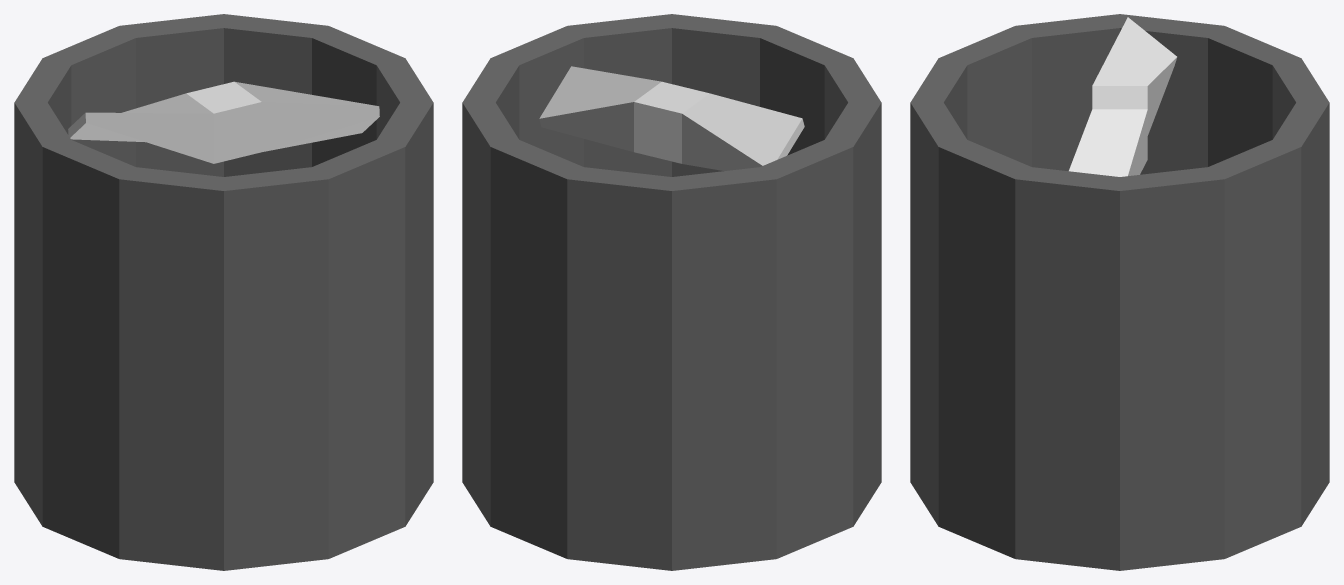
The model's file is Blender.fbx.
3 views of the same model, side by side, from view 1: azimuth 30°, elevation 25°; view 2: azimuth 150°, elevation 25°; view 3: azimuth 270°, elevation 25° (orthographic).
Visible parts, largest first — view 1: Cylinder, Razor; view 2: Cylinder, Razor; view 3: Cylinder, Razor.
Boxes of the visible parts, box(x1,y1,x2,y2) form: Cylinder: box(14, 14, 433, 570); Razor: box(68, 81, 379, 163); Cylinder: box(462, 14, 881, 570); Razor: box(539, 66, 804, 170); Cylinder: box(910, 14, 1329, 570); Razor: box(1069, 17, 1177, 176).
Size of the model in its own units: 2 by 2.1 by 2.
